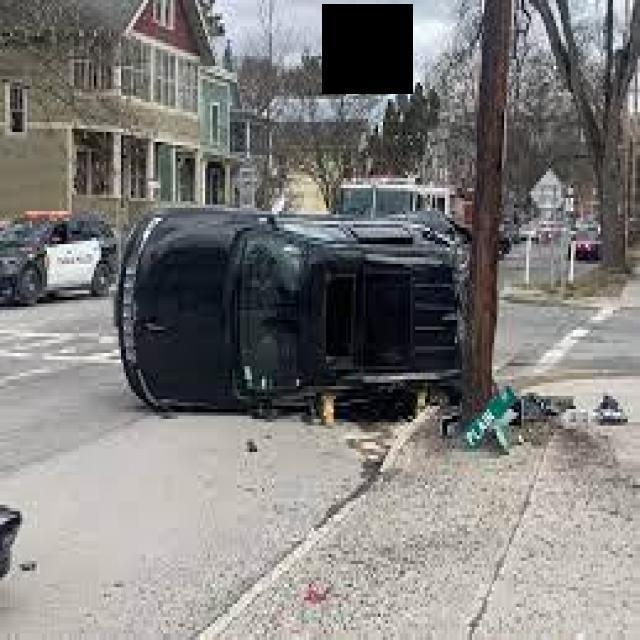normal: (36, 211, 122, 301)
single accident: (76, 139, 575, 475)
